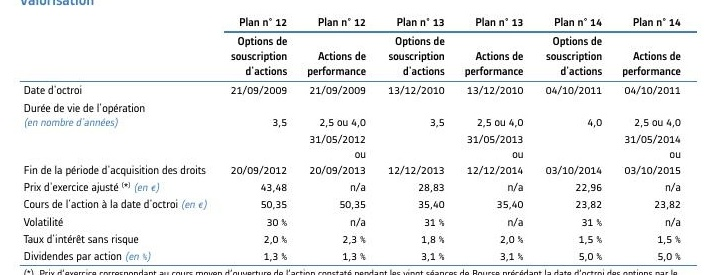table: (0, 0, 709, 275)
